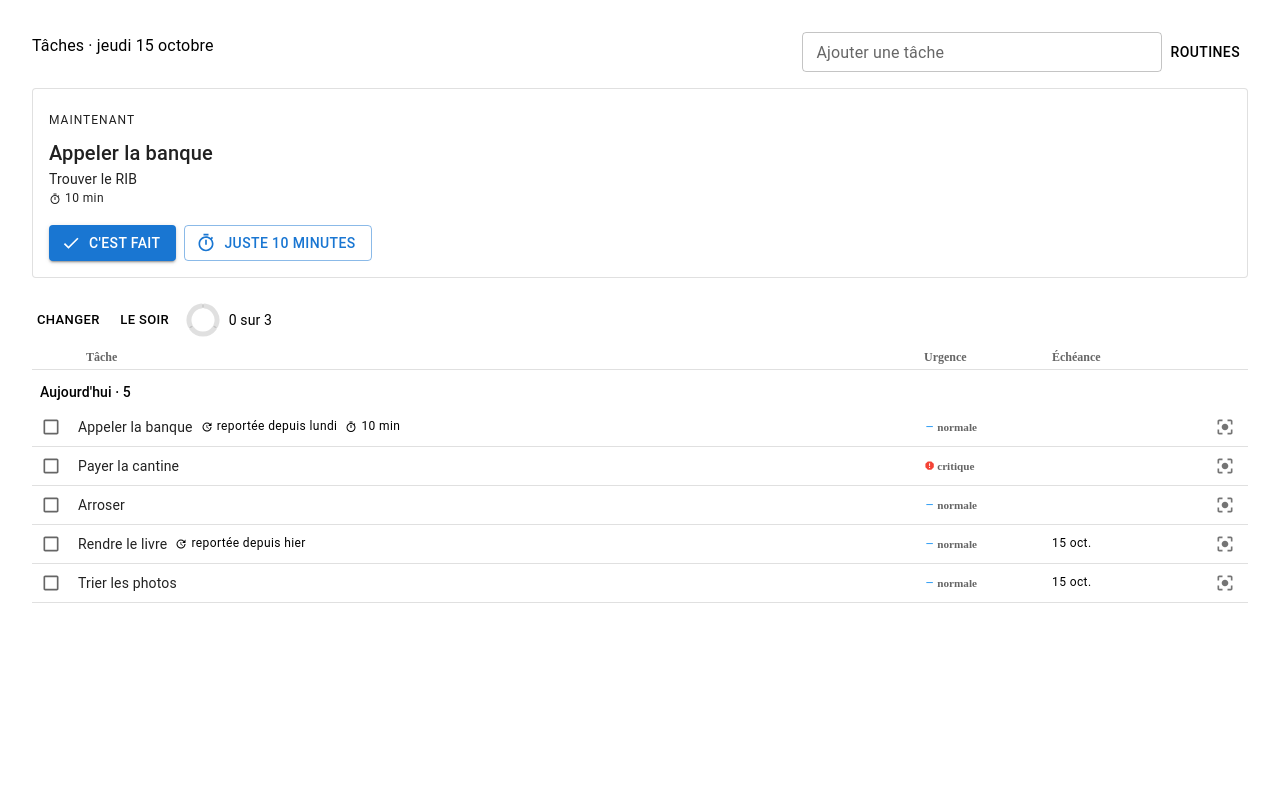
Test: TaskBoard › « Ta journée » — the morning (MAG-498) › « Changer » opens it on demand, even when the day is confirmed
The image size is (1280, 800).
Click the button "Changer" at (68, 320), box x1=32 y1=302 x2=105 y2=338
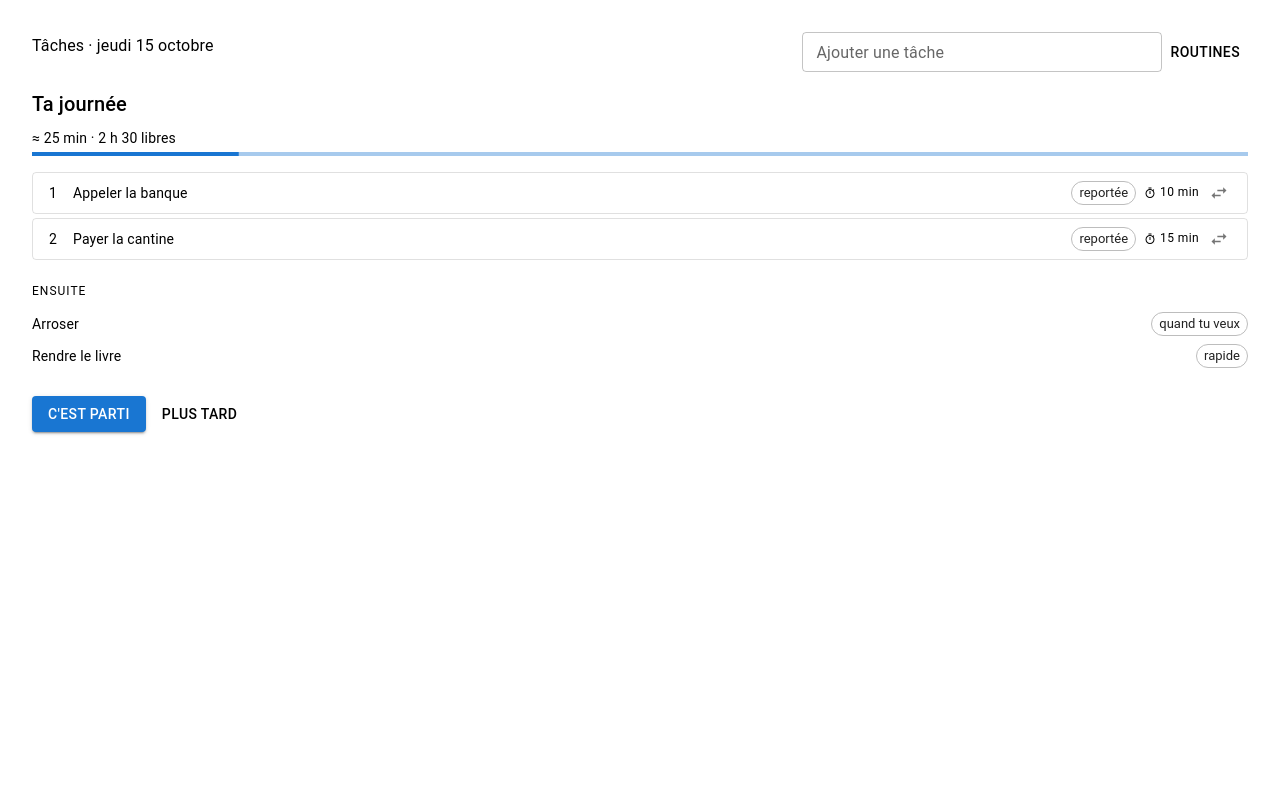
Expected: the element "Ta journée" is shown, x1=32 y1=88 x2=1248 y2=432
